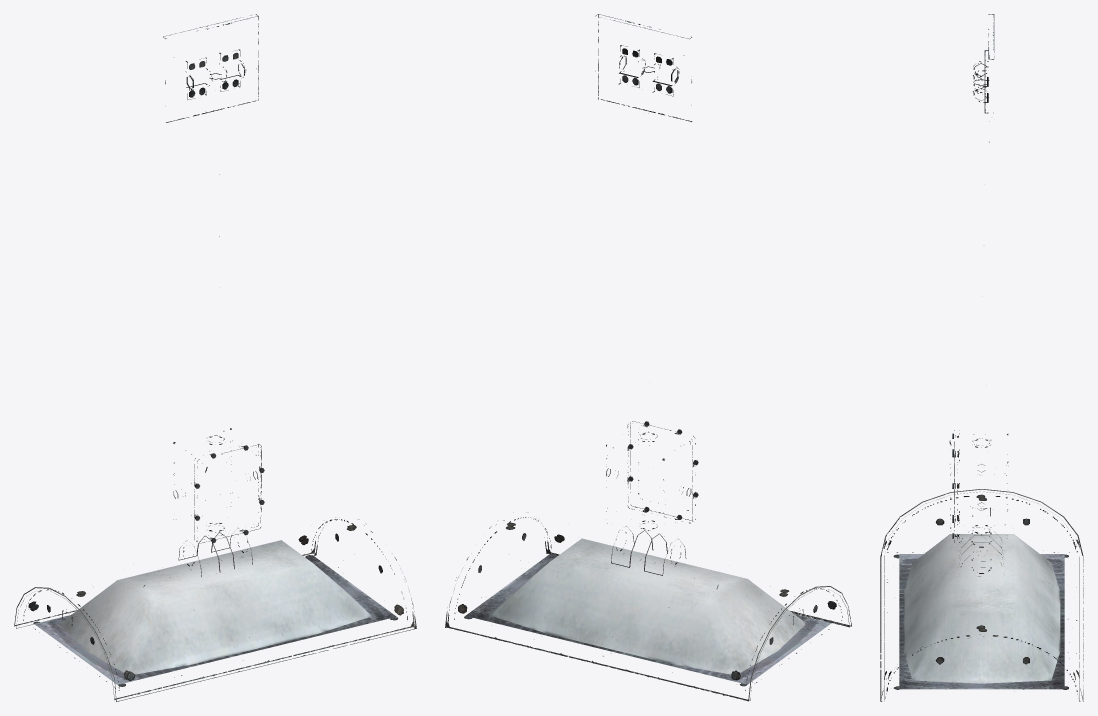
File: sm35_014_AqueductLight.fbx
3 views of the same model, side by side, from view 1: azimuth 30°, elevation 25°; view 2: azimuth 150°, elevation 25°; view 3: azimuth 270°, elevation 25° (orthographic).
Parts seen in each view (by area): view 1: LOD_1_Group_0_Sub_1__sm35_014_AqueductLight01A_A_Mat; view 2: LOD_1_Group_0_Sub_1__sm35_014_AqueductLight01A_A_Mat; view 3: LOD_1_Group_0_Sub_1__sm35_014_AqueductLight01A_A_Mat.
Boxes of the visible parts, box(x1,y1,x2,y2) form: LOD_1_Group_0_Sub_1__sm35_014_AqueductLight01A_A_Mat: box(14, 14, 416, 701); LOD_1_Group_0_Sub_1__sm35_014_AqueductLight01A_A_Mat: box(445, 14, 851, 701); LOD_1_Group_0_Sub_1__sm35_014_AqueductLight01A_A_Mat: box(880, 14, 1083, 701).
Size of the model in its own units: 0.5999 by 1.14 by 0.3545.
